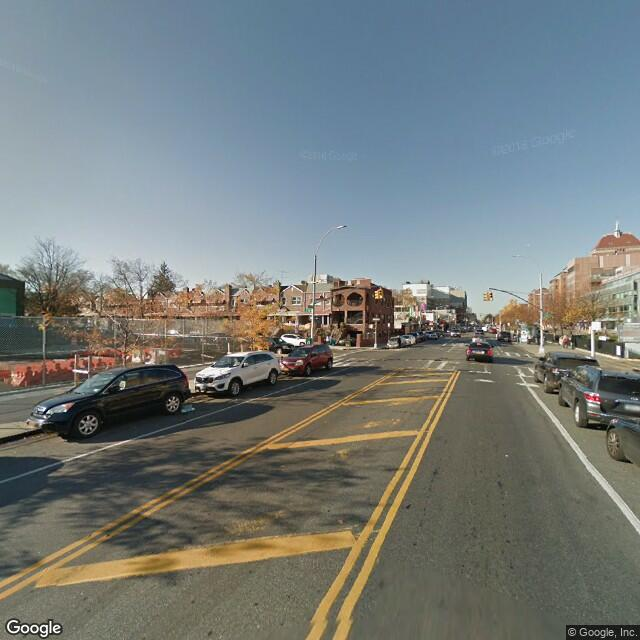litter: (505, 452, 510, 459)
